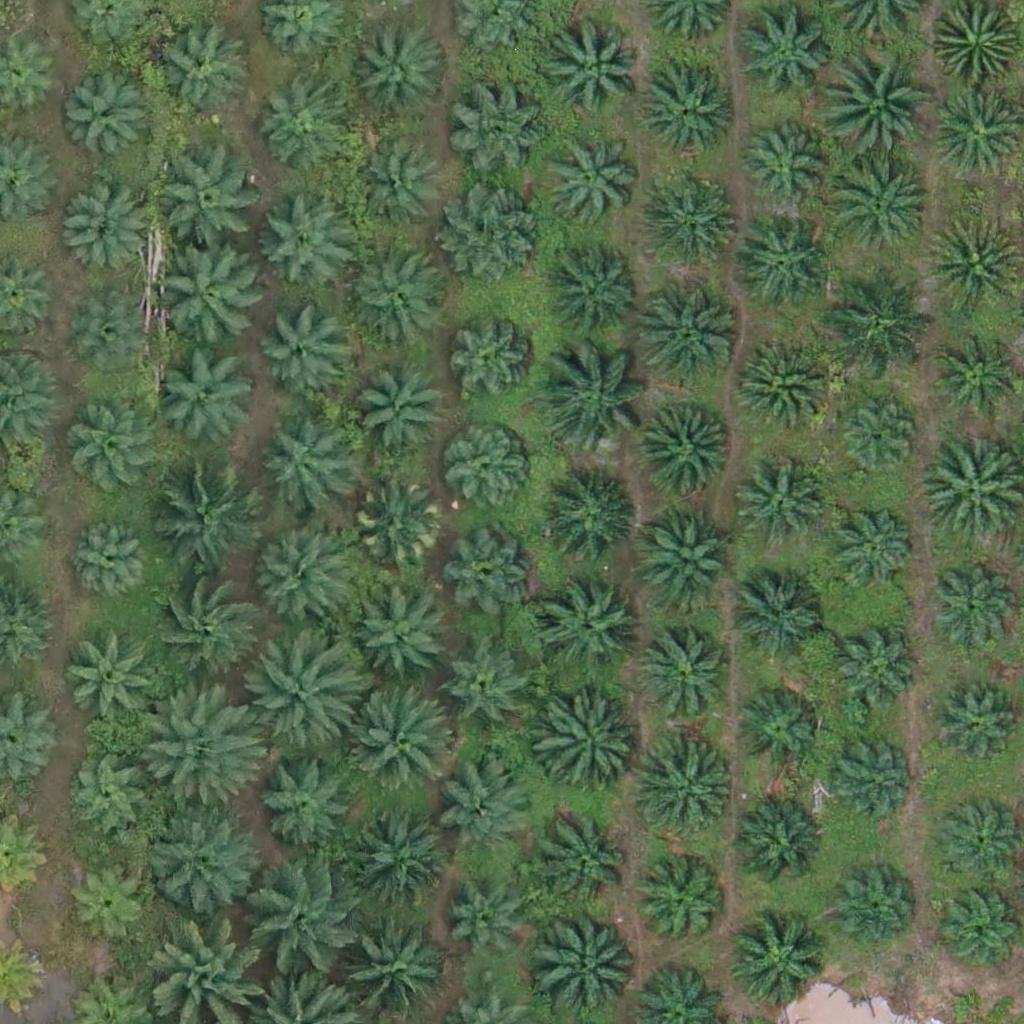Kelapa_Sawit: (151, 242, 264, 356), (541, 346, 654, 459), (251, 865, 364, 978), (826, 262, 939, 375), (533, 906, 645, 1020), (250, 642, 362, 756), (151, 466, 263, 580), (347, 688, 459, 801), (143, 801, 255, 914), (143, 686, 255, 799), (147, 573, 259, 686), (825, 151, 937, 264), (820, 41, 932, 154), (729, 336, 829, 437), (731, 565, 831, 666), (727, 797, 827, 898), (728, 913, 828, 1014), (637, 741, 737, 842), (541, 469, 641, 570), (537, 581, 637, 682), (537, 697, 637, 798), (352, 586, 452, 687), (251, 747, 351, 848), (163, 347, 263, 448), (62, 631, 162, 732), (148, 25, 248, 126), (163, 150, 263, 251), (347, 245, 447, 346), (447, 78, 547, 179), (445, 182, 545, 283), (548, 17, 648, 118), (541, 132, 641, 233), (545, 241, 645, 342), (639, 284, 739, 385), (638, 60, 738, 161), (731, 4, 831, 105), (734, 216, 834, 317), (636, 403, 736, 503), (637, 508, 737, 608), (539, 813, 639, 913), (440, 757, 540, 857), (347, 813, 447, 913), (246, 529, 346, 629), (254, 188, 354, 288), (646, 171, 746, 271), (64, 517, 152, 606), (837, 393, 925, 481), (826, 500, 914, 588), (830, 628, 918, 716), (823, 730, 911, 818), (925, 678, 1013, 766), (739, 461, 827, 549), (639, 863, 727, 951), (256, 307, 344, 395), (257, 423, 345, 511), (72, 407, 160, 495), (61, 857, 149, 945), (357, 22, 445, 110), (935, 85, 1023, 173), (931, 336, 1019, 424), (830, 865, 917, 953), (936, 797, 1023, 885), (927, 561, 1014, 649), (735, 683, 822, 771), (644, 627, 731, 715), (447, 321, 534, 409), (444, 430, 531, 518), (447, 529, 534, 617), (444, 646, 531, 734), (444, 890, 531, 978), (354, 482, 441, 570), (353, 367, 440, 455), (64, 755, 151, 843), (65, 79, 152, 167), (62, 187, 149, 275), (254, 85, 341, 173), (352, 143, 439, 231), (741, 118, 828, 206), (76, 297, 151, 373)
